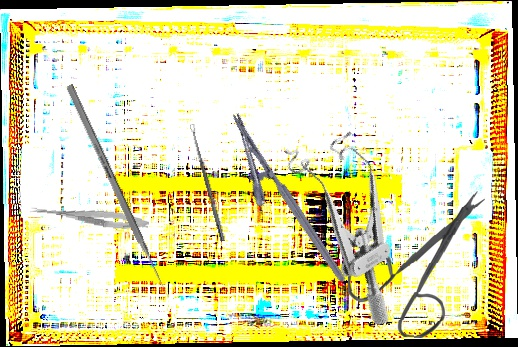Iris Scissors: (345, 186, 486, 340)
Micro Scissor: (29, 202, 150, 233)
Needle Holder: (208, 111, 348, 298)
Pusher: (65, 83, 172, 301)
Speculum: (268, 113, 449, 329)
Surgical Spoon: (189, 123, 226, 242)
